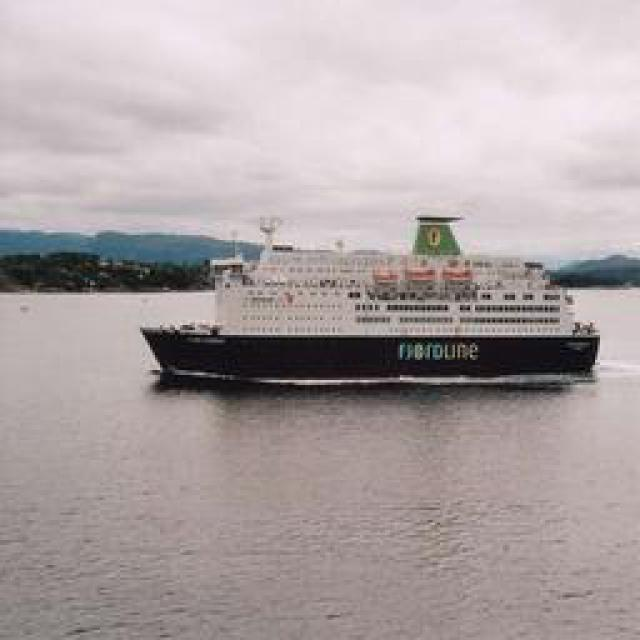Ship: (142, 205, 606, 390)
